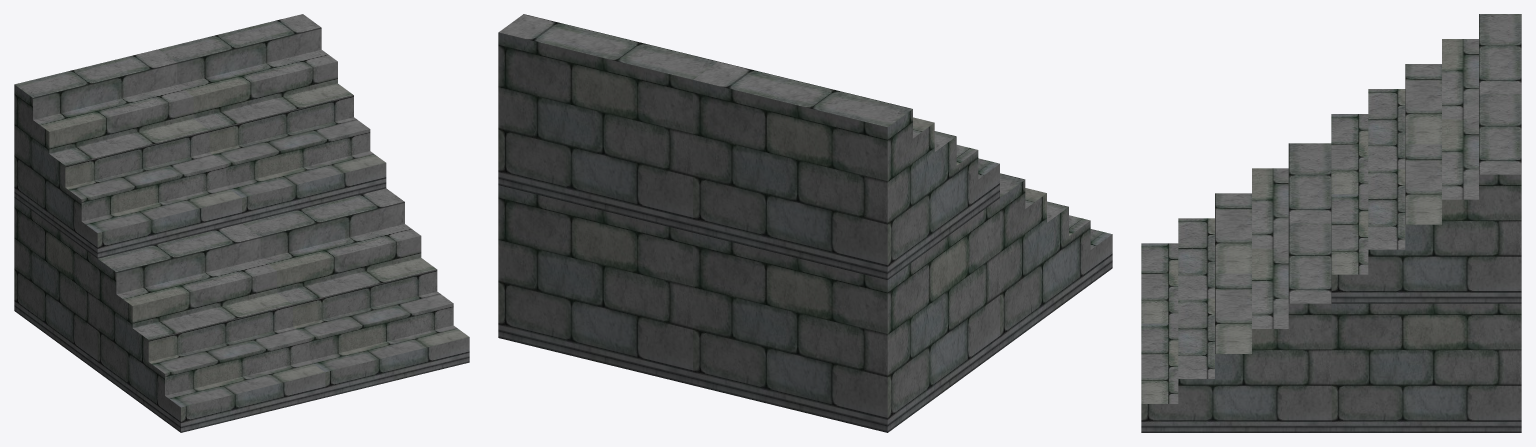
The model's file is stairs_large_01.glb.
3 renders of one model, left to right at view 1: azimuth 30°, elevation 25°; view 2: azimuth 150°, elevation 25°; view 3: azimuth 270°, elevation 25°, orthographic. The views are drawn at different scales.
Parts seen in each view (by area): view 1: stairs_large_01; view 2: stairs_large_01; view 3: stairs_large_01.
Part boxes in pixels (x1=…): stairs_large_01: x1=14, y1=14, x2=469, y2=432; stairs_large_01: x1=498, y1=14, x2=1112, y2=432; stairs_large_01: x1=1141, y1=14, x2=1521, y2=432.
Size of the model in its own units: 4 by 3 by 4.
1 material, 1 textured.
